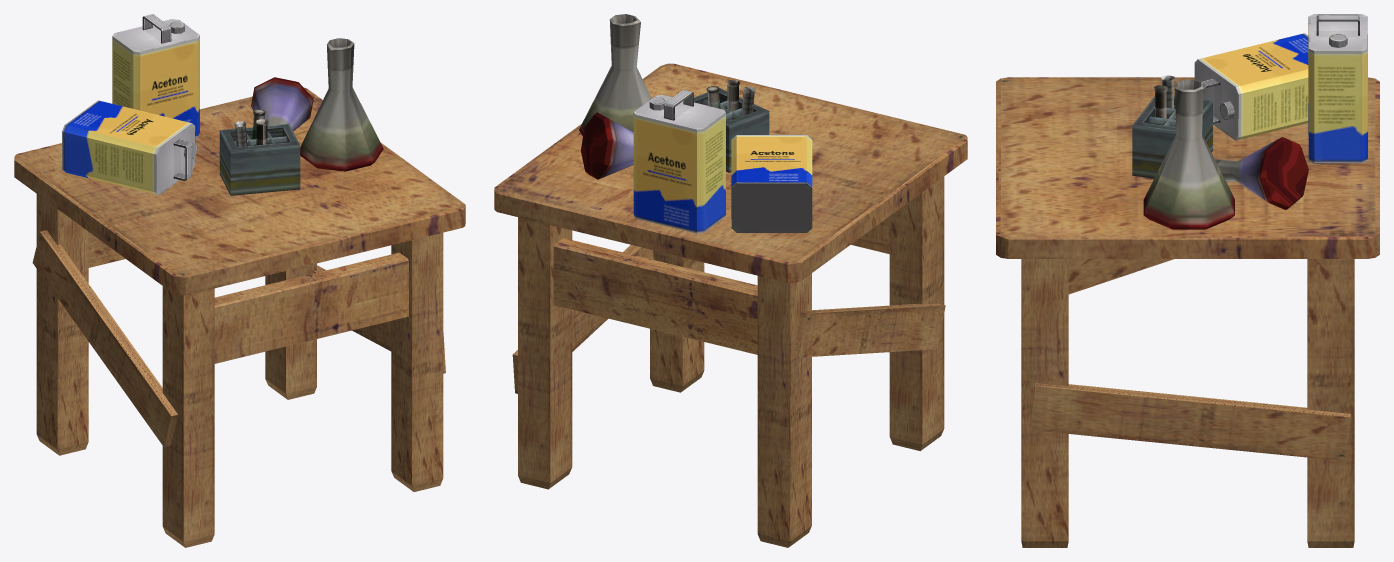
File: DTBLS01.glb
The picture shows the model from 3 angles, left to right: view 1: azimuth 30°, elevation 25°; view 2: azimuth 150°, elevation 25°; view 3: azimuth 270°, elevation 25°; orthographic projection. The views are drawn at different scales.
Parts seen in each view (by area): view 1: _DTBLS01; view 2: _DTBLS01; view 3: _DTBLS01.
Boxes of the visible parts, x1=… form: _DTBLS01: x1=14, y1=14, x2=465, y2=547; _DTBLS01: x1=494, y1=14, x2=967, y2=547; _DTBLS01: x1=996, y1=14, x2=1379, y2=547.
Bounding box in the file's own units: 0.7821 × 1.01 × 0.7821.
3 materials, 3 textured.
